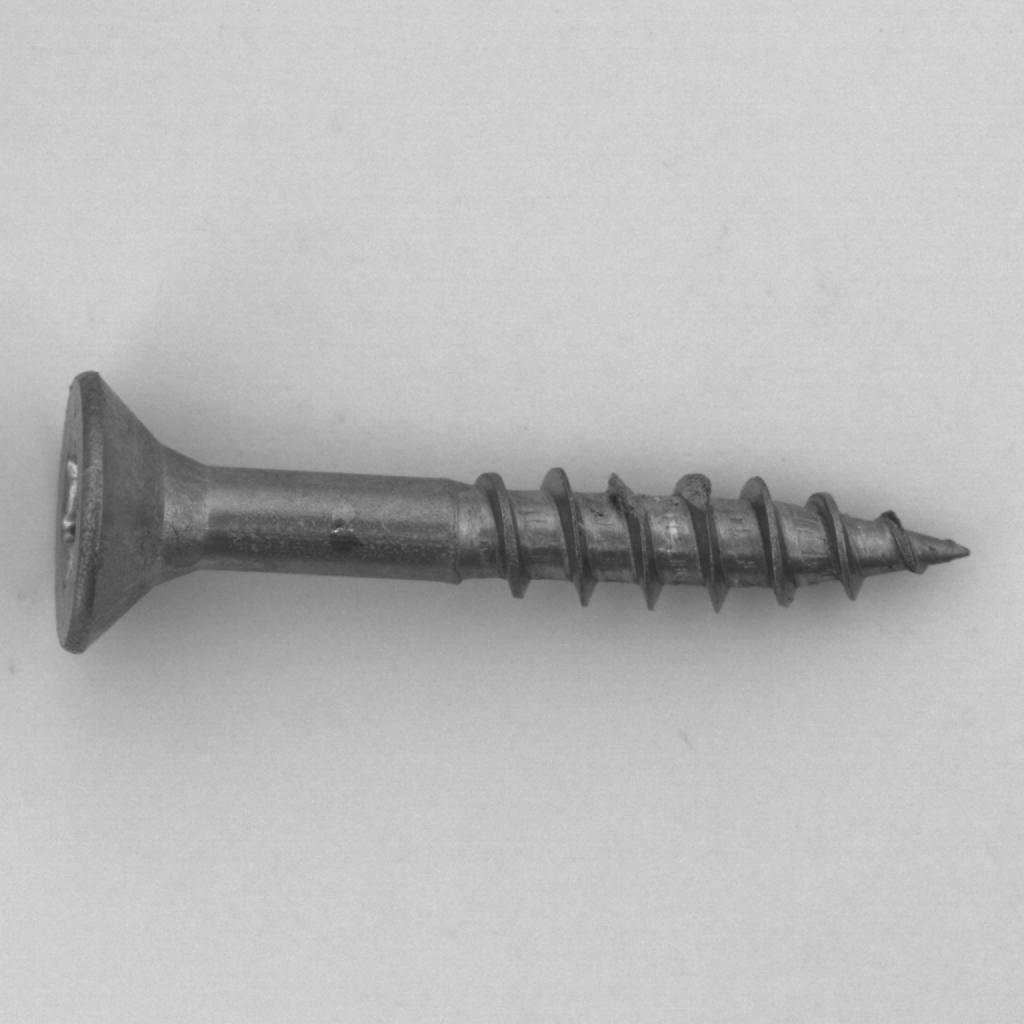thread_side: (32, 356, 988, 688)
